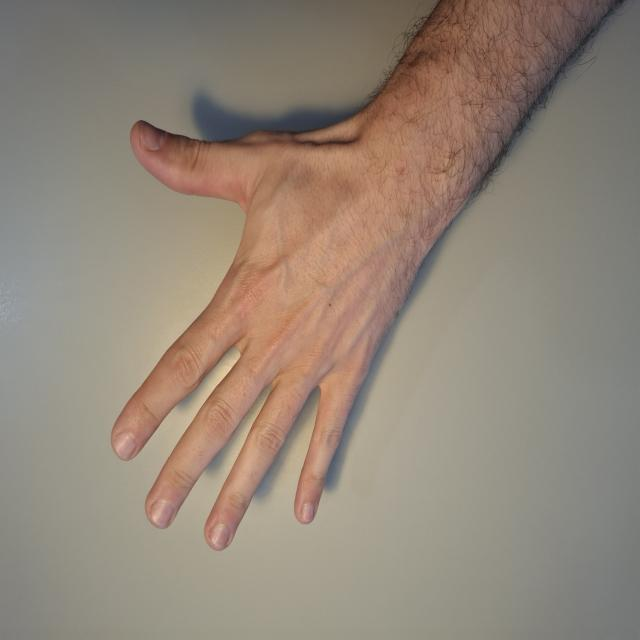glove_off: (108, 104, 412, 553)
